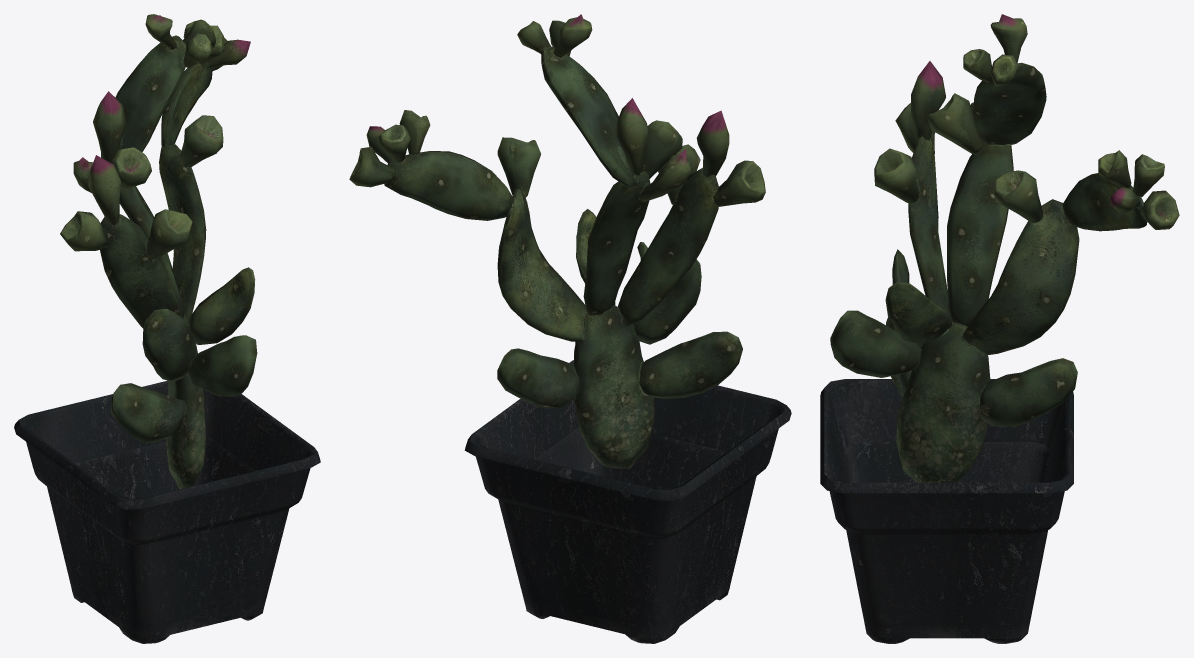
File: Kaktus.glb
3 renders of one model, left to right at view 1: azimuth 30°, elevation 25°; view 2: azimuth 150°, elevation 25°; view 3: azimuth 270°, elevation 25°, orthographic. The views are drawn at different scales.
Visible parts, largest first — view 1: Object_4; view 2: Object_4; view 3: Object_4.
Part boxes in pixels (box(x1,y1,x2,y2)): Object_4: box(14, 14, 320, 643); Object_4: box(349, 14, 791, 643); Object_4: box(820, 14, 1179, 643).
Bounding box in the file's own units: 0.2808 × 0.5455 × 0.2925.
1 material, 1 textured.
